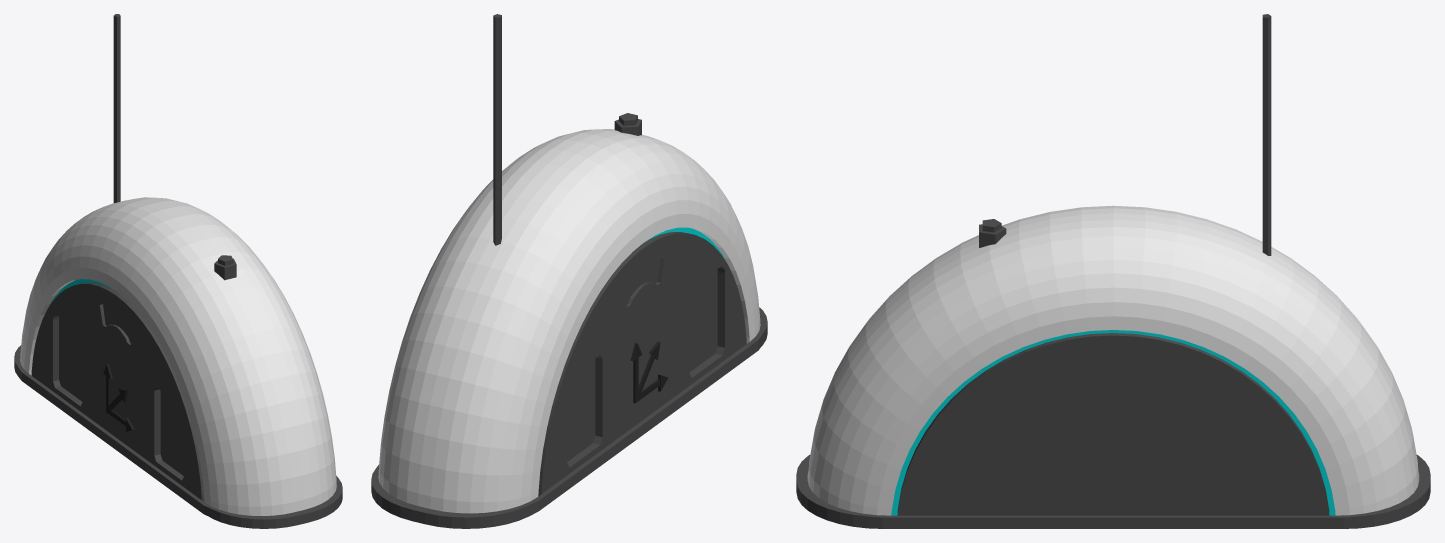
Rendered from radio_real.fbx.
The picture shows the model from 3 angles, left to right: view 1: azimuth 30°, elevation 25°; view 2: azimuth 150°, elevation 25°; view 3: azimuth 270°, elevation 25°; orthographic projection. The views are drawn at different scales.
Visible parts, largest first — view 1: Cylinder, Cylinder.001, Cube.004; view 2: Cylinder, Cylinder.001, Cube.004; view 3: Cylinder, Cylinder.001.
Part boxes in pixels (<box>): Cylinder: <box>14,197,342,528</box>; Cylinder.001: <box>113,14,120,202</box>; Cube.004: <box>103,364,134,431</box>; Cylinder: <box>371,129,767,528</box>; Cylinder.001: <box>493,14,501,245</box>; Cube.004: <box>630,341,667,403</box>; Cylinder: <box>796,205,1430,528</box>; Cylinder.001: <box>1262,14,1271,255</box>.
Size of the model in its own units: 62.65 by 171 by 207.
